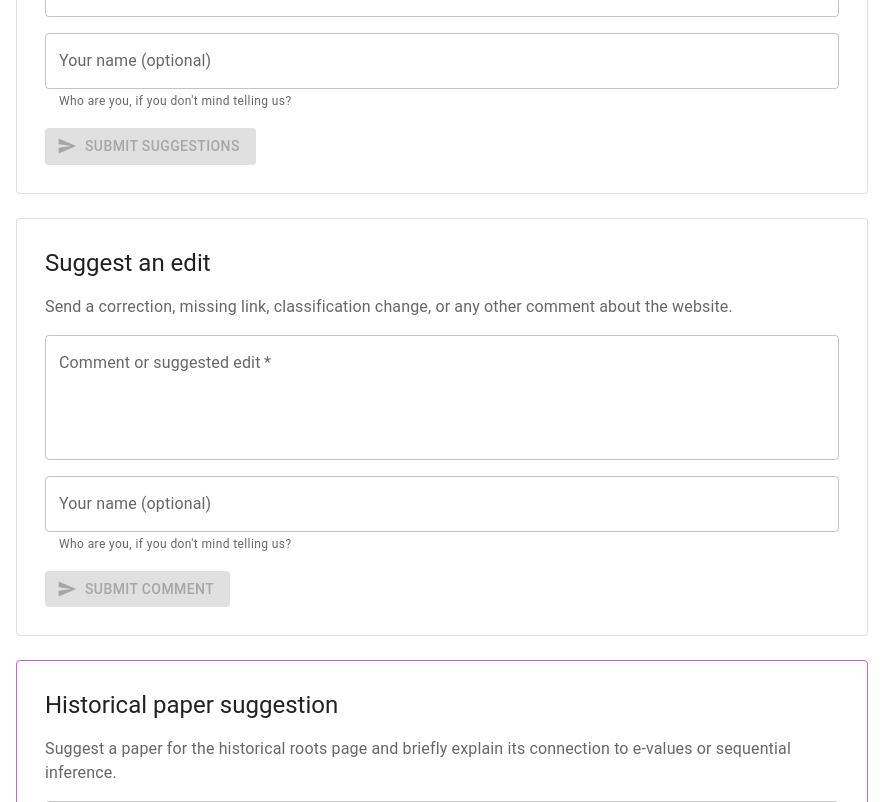
Test: SubmitPage › submits a general website comment
(page scrolled)
Expected: the form "Suggest an edit" is shown, [16,218,868,636]
Type "The venue for one paper should be corrected." into the text box labelled "Comment or suggested edit" at (442, 397), box [59,351,825,443]
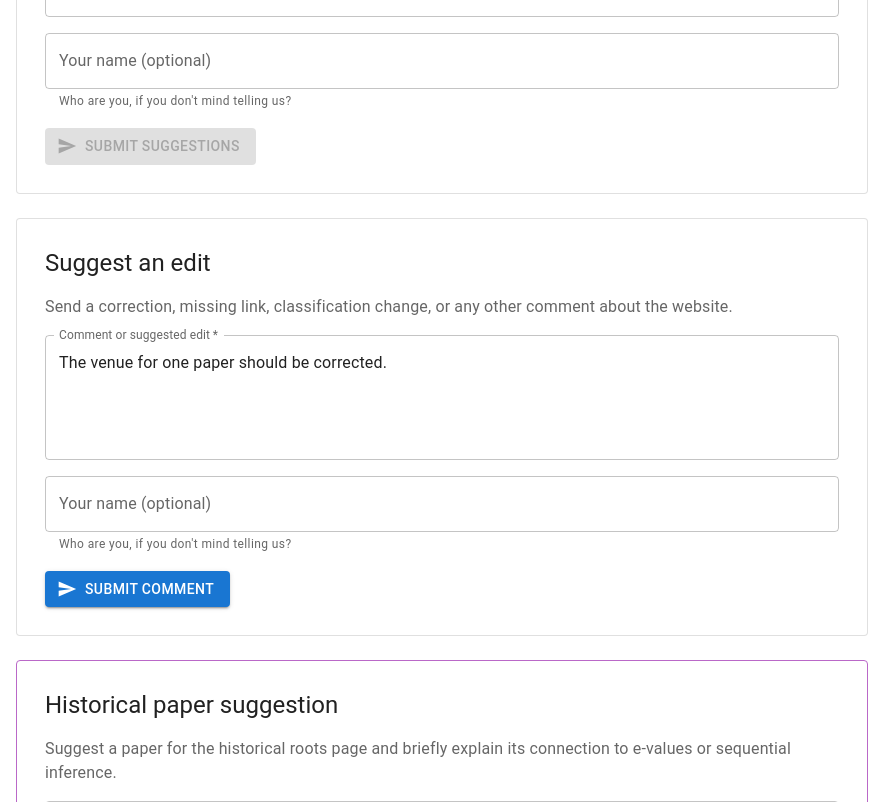
Type "Ada Researcher" into the field labelled "Your name (optional)" below "Comment or suggested edit" at (442, 504), box [45,476,839,532]
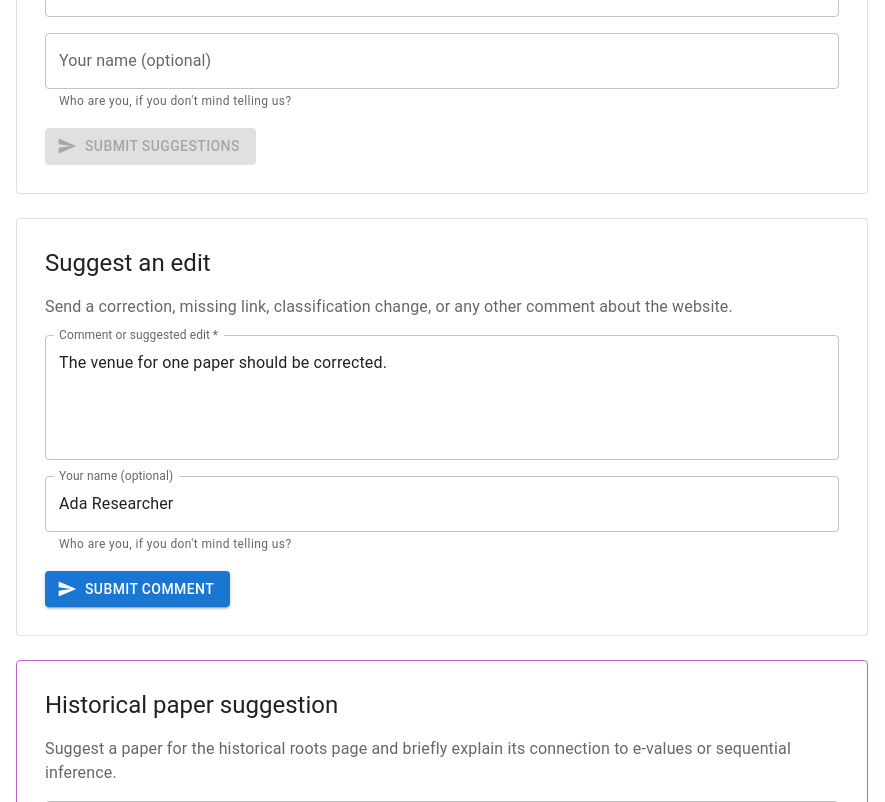
Click the button "Submit comment" at (138, 589), box [45,571,230,607]
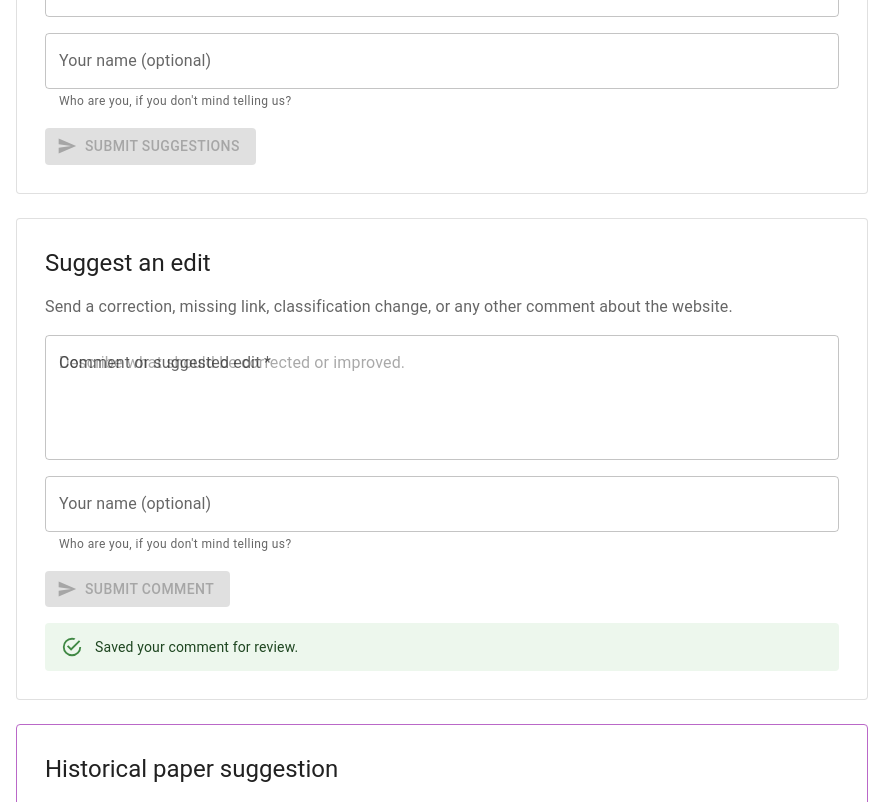
Expected: the text "Saved your comment for review." is shown, [95,639,298,655]
